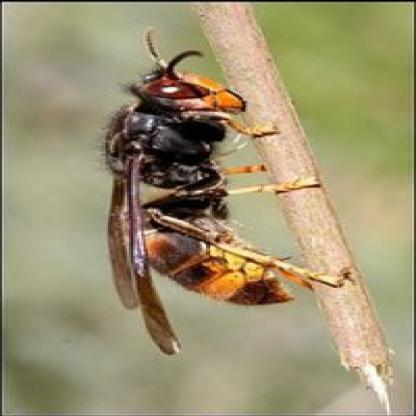asian: (96, 25, 354, 358)
